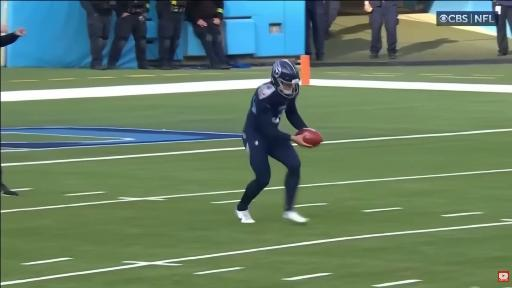Helmet: (271, 60, 299, 98)
Jersey: (244, 83, 306, 140)
Player: (236, 60, 311, 222)
